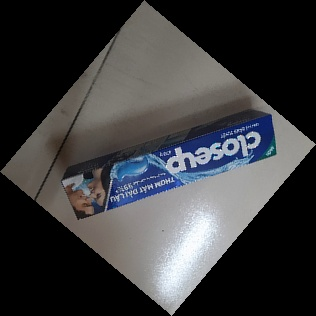CloseUp Tuyet: (58, 108, 277, 222)
